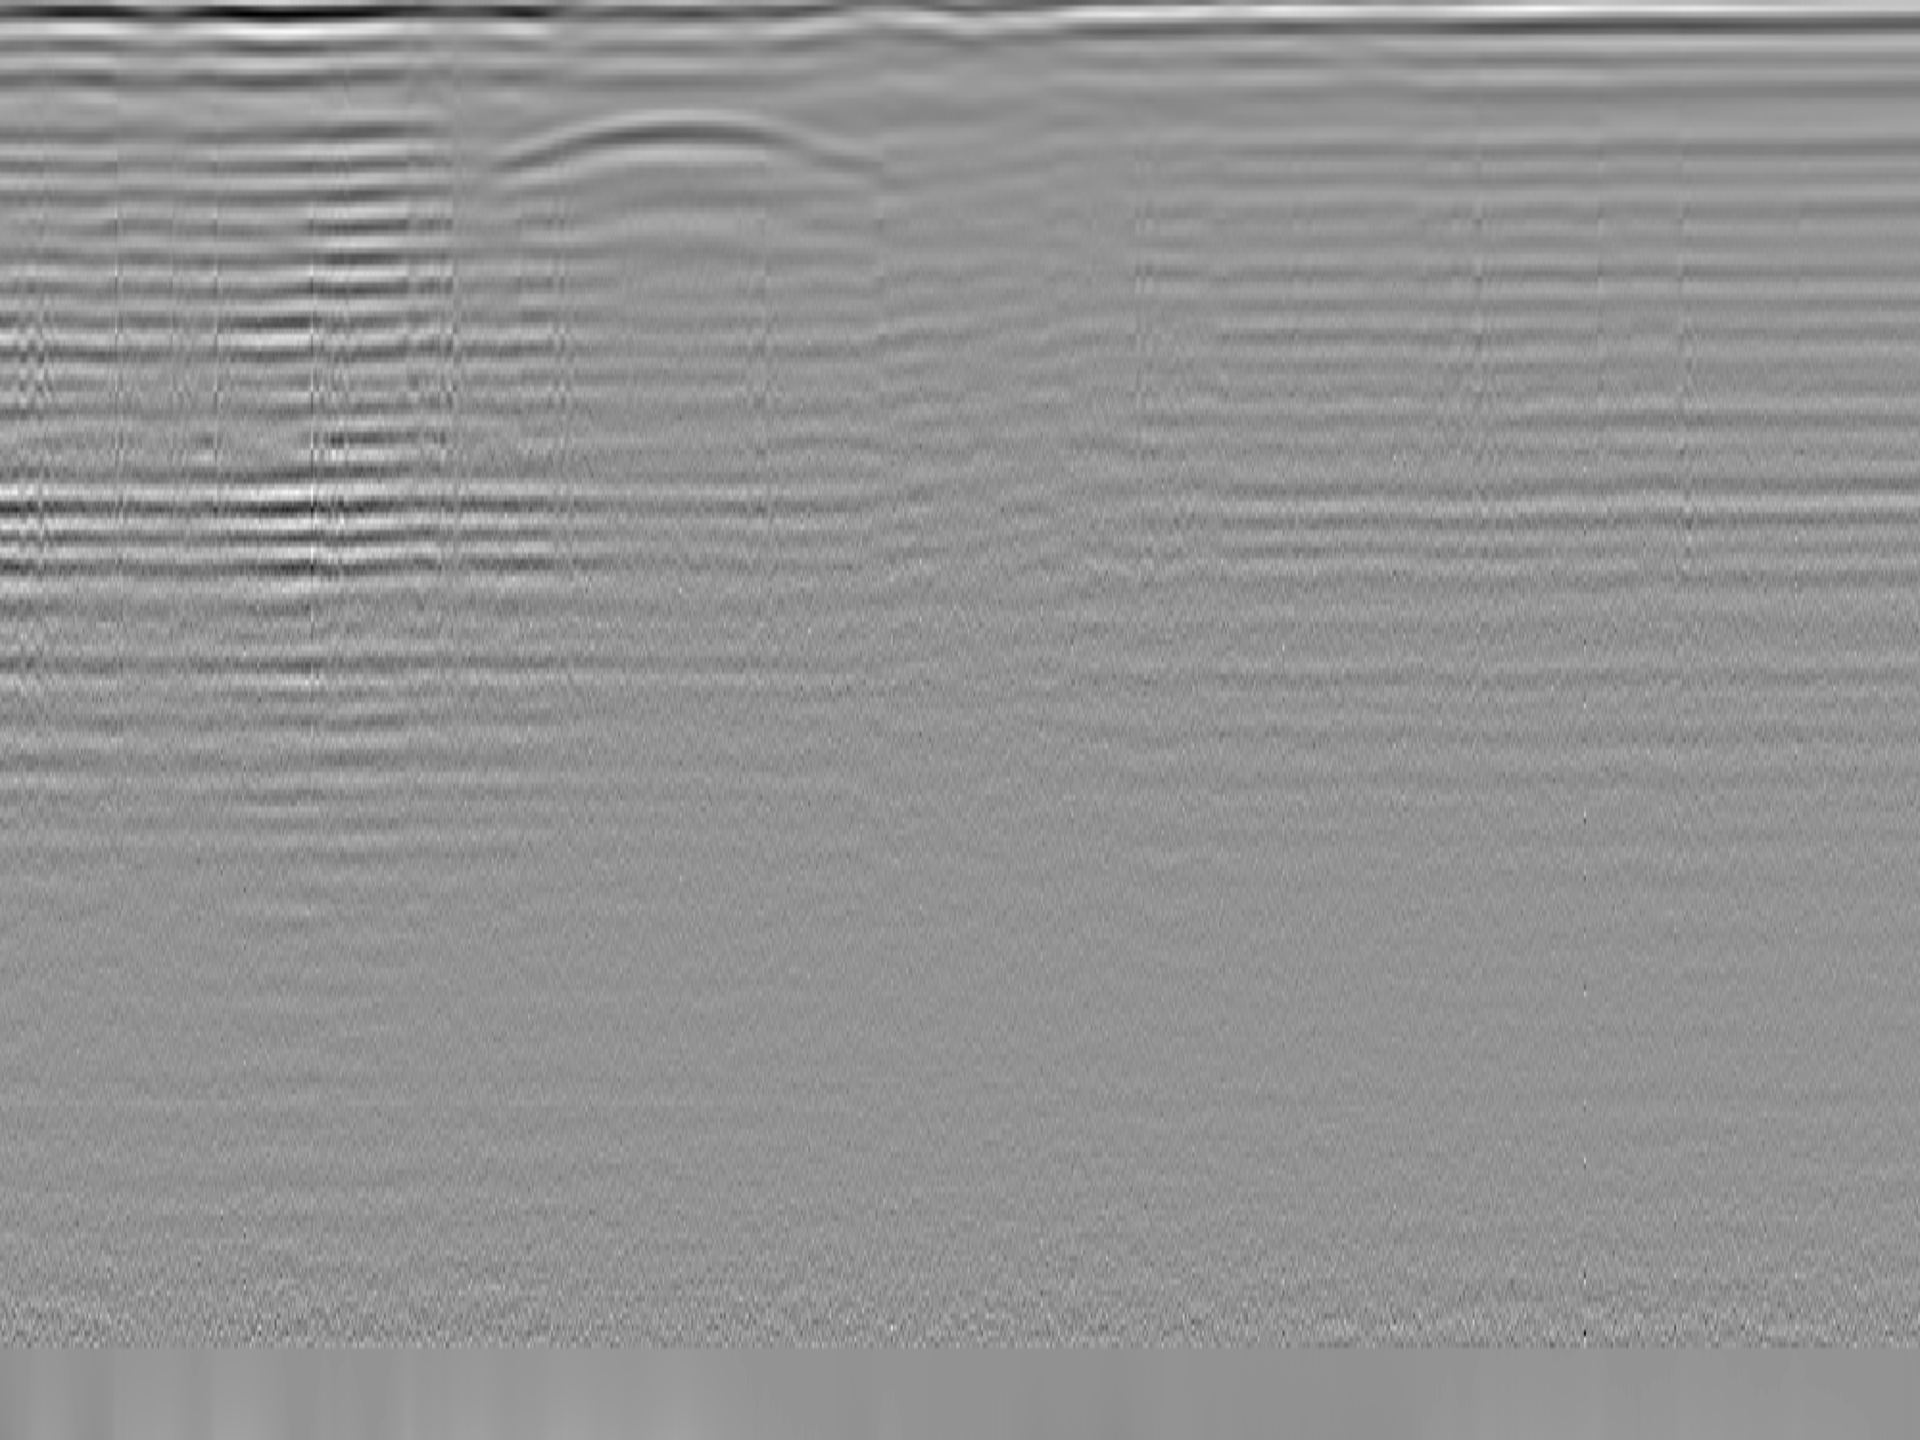Tunnel: (488, 109, 886, 191)
